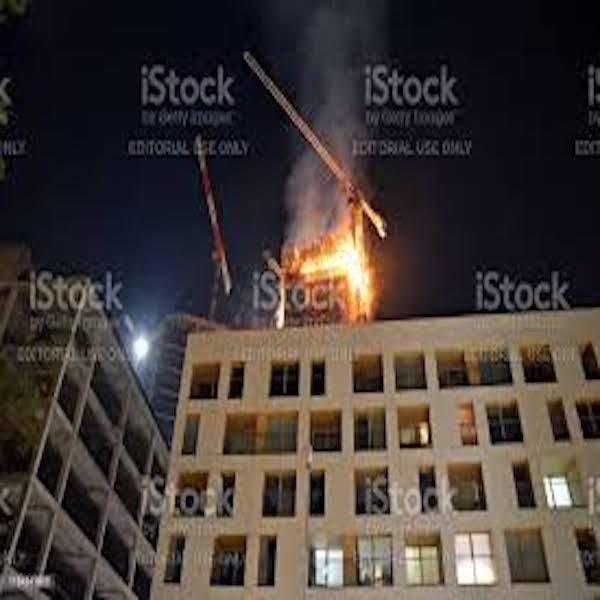fire: (287, 226, 373, 273), (348, 225, 385, 325)
